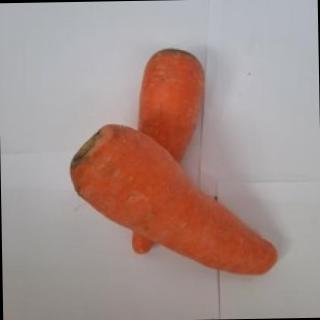Wortel: (69, 121, 279, 277)
